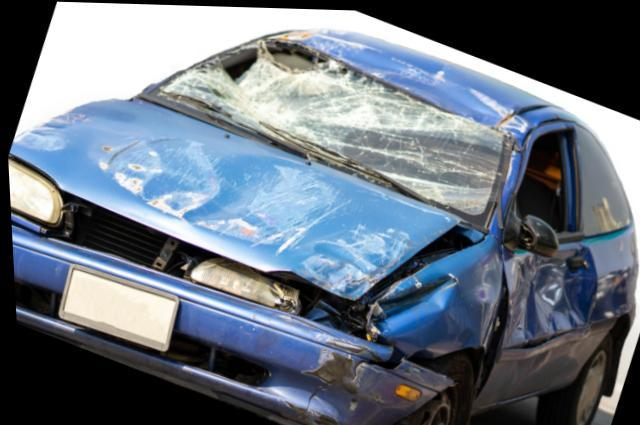crack: (350, 346, 403, 373), (300, 379, 321, 406)
dent: (503, 243, 596, 342), (373, 269, 453, 326)
dislocated part: (6, 101, 481, 307), (9, 219, 478, 425), (183, 250, 367, 336)
glass shatter: (158, 38, 506, 212)
lamp broken: (186, 254, 308, 314)
no part: (516, 125, 573, 233)
scratch: (92, 129, 343, 250), (266, 27, 533, 133), (296, 216, 412, 297), (297, 332, 379, 389), (11, 109, 80, 156), (277, 397, 335, 425)
